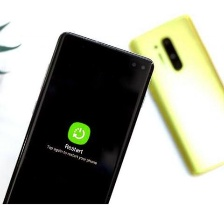phone: (0, 25, 157, 224), (122, 9, 224, 182)
